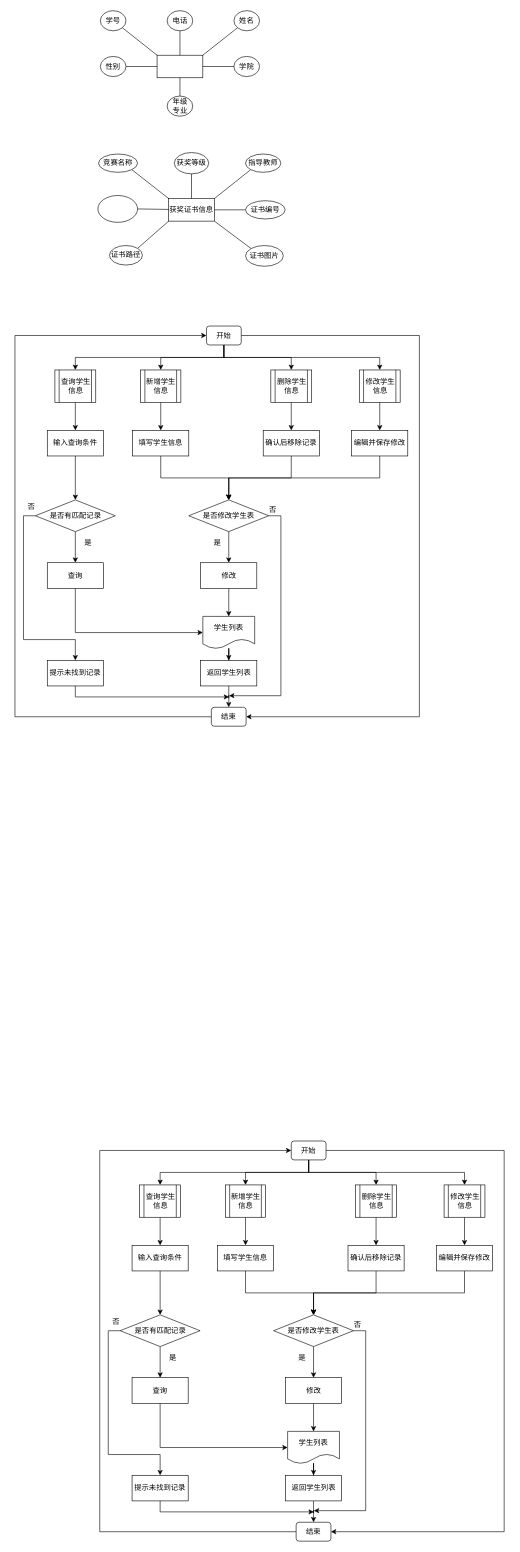
Some shapes in this 520 by 1552 pixel diagram are drawn without their labels. Here are the shapes that lost their labels. From the top down, the centre of each, then its label:
point (179, 66): 学生信息
point (117, 208): 获奖人姓名
